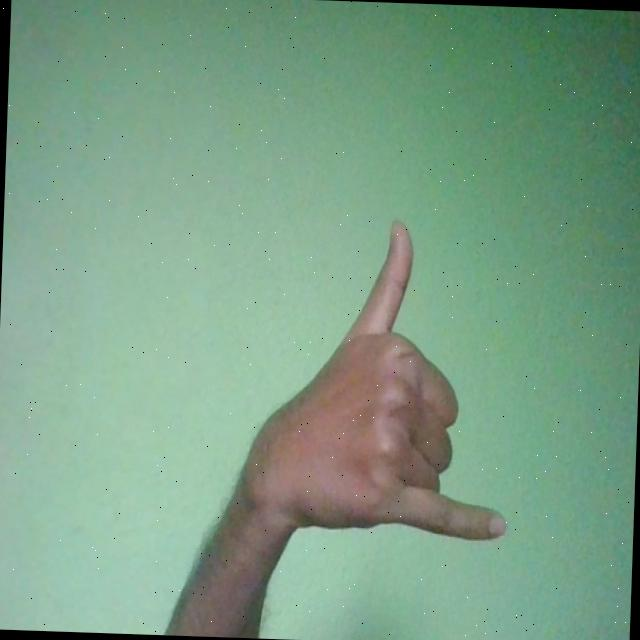Call Me: (232, 215, 518, 542)
